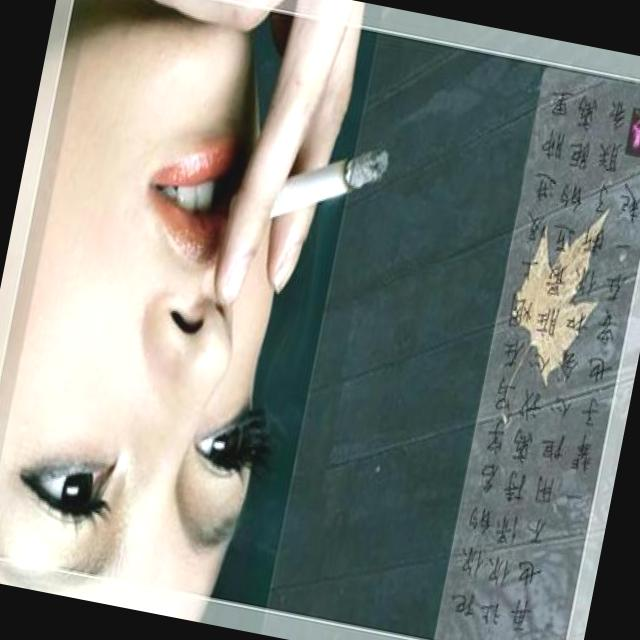smoke: (210, 116, 397, 256)
